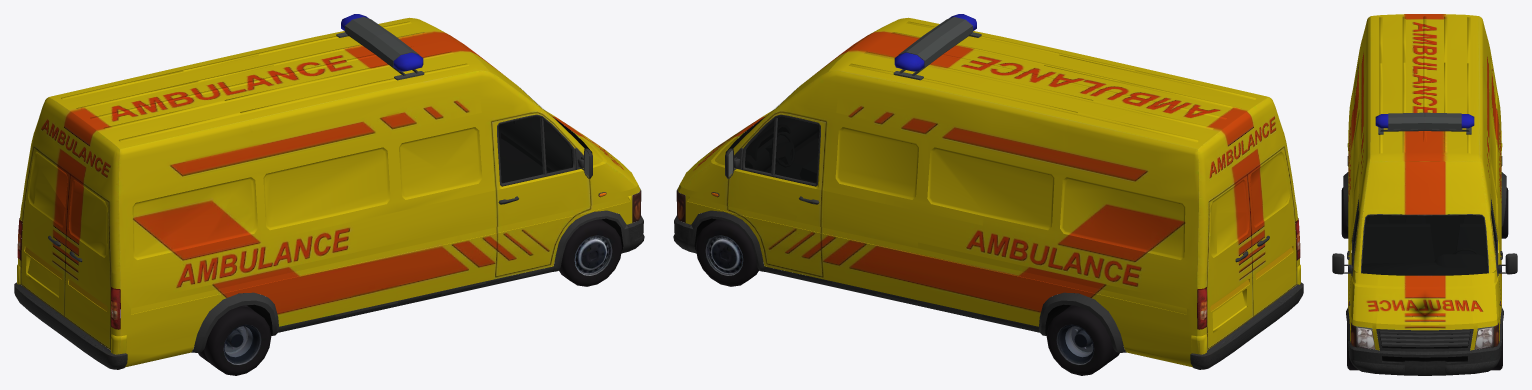
The model's file is car-ambulance.87a4235d.glb.
3 views of the same model, side by side, from view 1: azimuth 30°, elevation 25°; view 2: azimuth 150°, elevation 25°; view 3: azimuth 270°, elevation 25° (orthographic). The views are drawn at different scales.
Visible parts, largest first — view 1: ambulance_1, Plastic_7, wheel_rr_11, wheel_fr_9, blue_lamps_2, lamps_3; view 2: ambulance_1, Plastic_7, wheel_rl_10, wheel_fl_8, blue_lamps_2, lamps_3; view 3: ambulance_1, Plastic_7, lamps_3, blue_lamps_2, lamps2_4, wheel_rl_10, wheel_rr_11.
Boxes of the visible parts, <box> form: ambulance_1: <box>17,17,640,367</box>; Plastic_7: <box>14,17,644,369</box>; wheel_rr_11: <box>198,305,271,375</box>; wheel_fr_9: <box>559,219,622,286</box>; blue_lamps_2: <box>341,14,423,71</box>; lamps_3: <box>17,188,640,329</box>; ambulance_1: <box>677,17,1300,367</box>; Plastic_7: <box>673,17,1303,369</box>; wheel_rl_10: <box>1046,305,1119,375</box>; wheel_fl_8: <box>695,219,758,286</box>; blue_lamps_2: <box>894,14,976,71</box>; lamps_3: <box>677,188,1300,329</box>; ambulance_1: <box>1347,14,1502,350</box>; Plastic_7: <box>1332,112,1517,375</box>; lamps_3: <box>1356,326,1493,349</box>; blue_lamps_2: <box>1375,114,1474,128</box>; lamps2_4: <box>1348,302,1501,346</box>; wheel_rl_10: <box>1494,187,1508,238</box>; wheel_rr_11: <box>1341,187,1348,238</box>.
Size of the model in its own units: 6.59 by 2.9 by 2.52.
5 materials, 4 textured.
